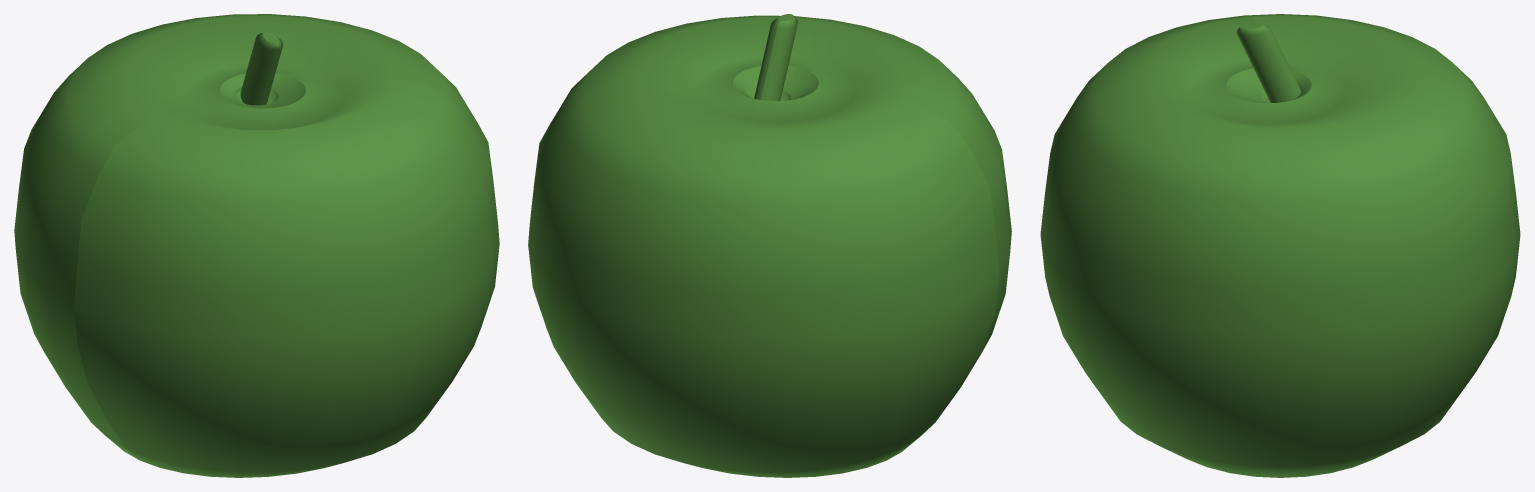
File: Extra Asset_Apple.fbx
3 renders of one model, left to right at view 1: azimuth 30°, elevation 25°; view 2: azimuth 150°, elevation 25°; view 3: azimuth 270°, elevation 25°, orthographic.
Visible parts, largest first — view 1: Sphere001; view 2: Sphere001; view 3: Sphere001.
Part boxes in pixels (box(x1,y1,x2,y2)): Sphere001: box(14, 14, 499, 477); Sphere001: box(528, 14, 1011, 477); Sphere001: box(1040, 14, 1520, 477).
Size of the model in its own units: 10.54 by 9.47 by 10.54.
